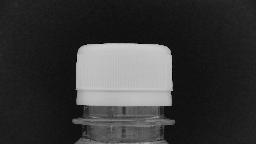Loose Cap: (64, 83, 180, 130)
